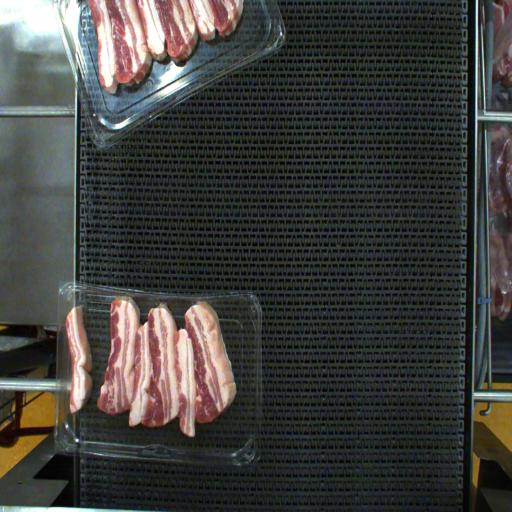loose-meat: (64, 305, 96, 423)
packaging-error: (117, 269, 214, 309)
